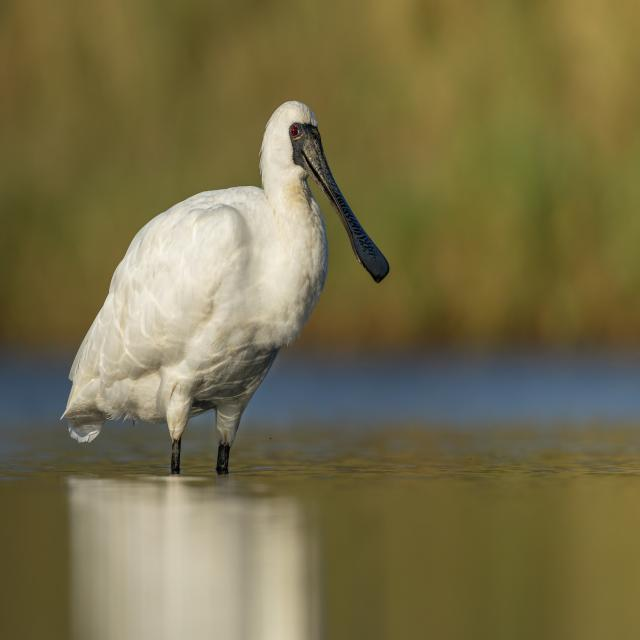Black-faced spoonbill: (64, 102, 388, 473)
